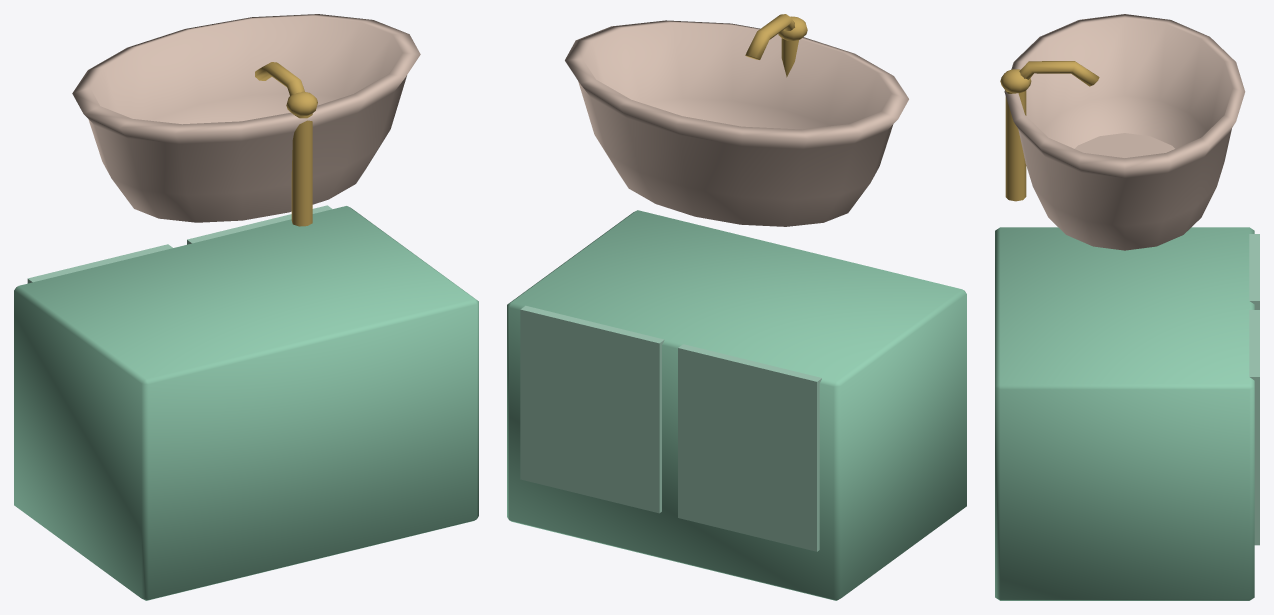
Rendered from deep_sink.glb.
3 views of the same model, side by side, from view 1: azimuth 30°, elevation 25°; view 2: azimuth 150°, elevation 25°; view 3: azimuth 270°, elevation 25° (orthographic). The views are drawn at different scales.
Parts seen in each view (by area): view 1: deep_sink; view 2: deep_sink; view 3: deep_sink.
Part boxes in pixels (x1,y1,x2,y2): deep_sink: [14, 14, 478, 600]; deep_sink: [507, 14, 966, 600]; deep_sink: [995, 14, 1259, 600].
Size of what is drawn, in the model's own units: 0.72 by 0.96 by 0.5.
